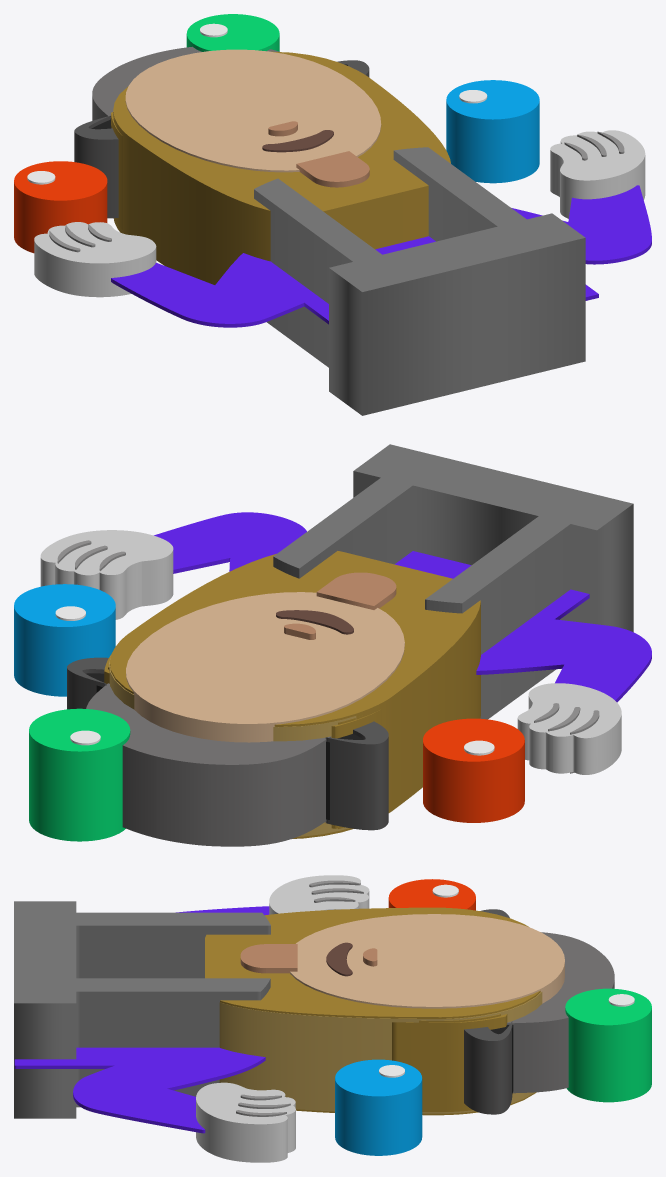
File: emoji_u1f939_1f3fc_200d_2640.glb
3 views of the same model, one above another, from view 1: azimuth 30°, elevation 25°; view 2: azimuth 150°, elevation 25°; view 3: azimuth 270°, elevation 25° (orthographic). The views are drawn at different scales.
Parts seen in each view (by area): view 1: emoji_u1f939_1f3fc_200d_2640; view 2: emoji_u1f939_1f3fc_200d_2640; view 3: emoji_u1f939_1f3fc_200d_2640.
Boxes of the visible parts, x1,y1,x2,y2 form: emoji_u1f939_1f3fc_200d_2640: (14,14,651,415); emoji_u1f939_1f3fc_200d_2640: (14,444,651,846); emoji_u1f939_1f3fc_200d_2640: (14,875,651,1162).
Size of the model in its own units: 0.0309 by 0.0066 by 0.033.
